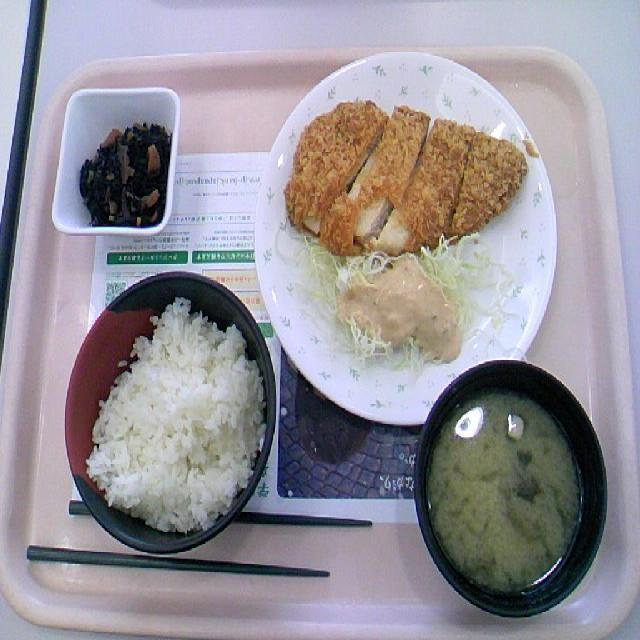Rice: (86, 301, 262, 533)
